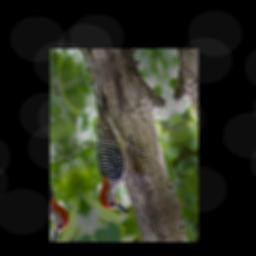Woodpecker: (66, 73, 166, 227)
